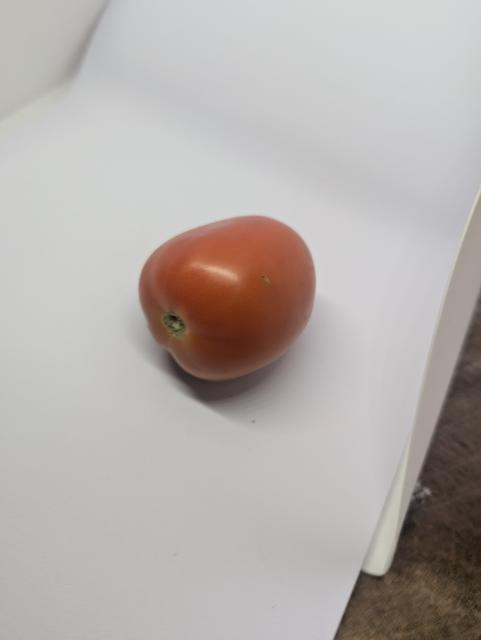red: (137, 203, 355, 403)
